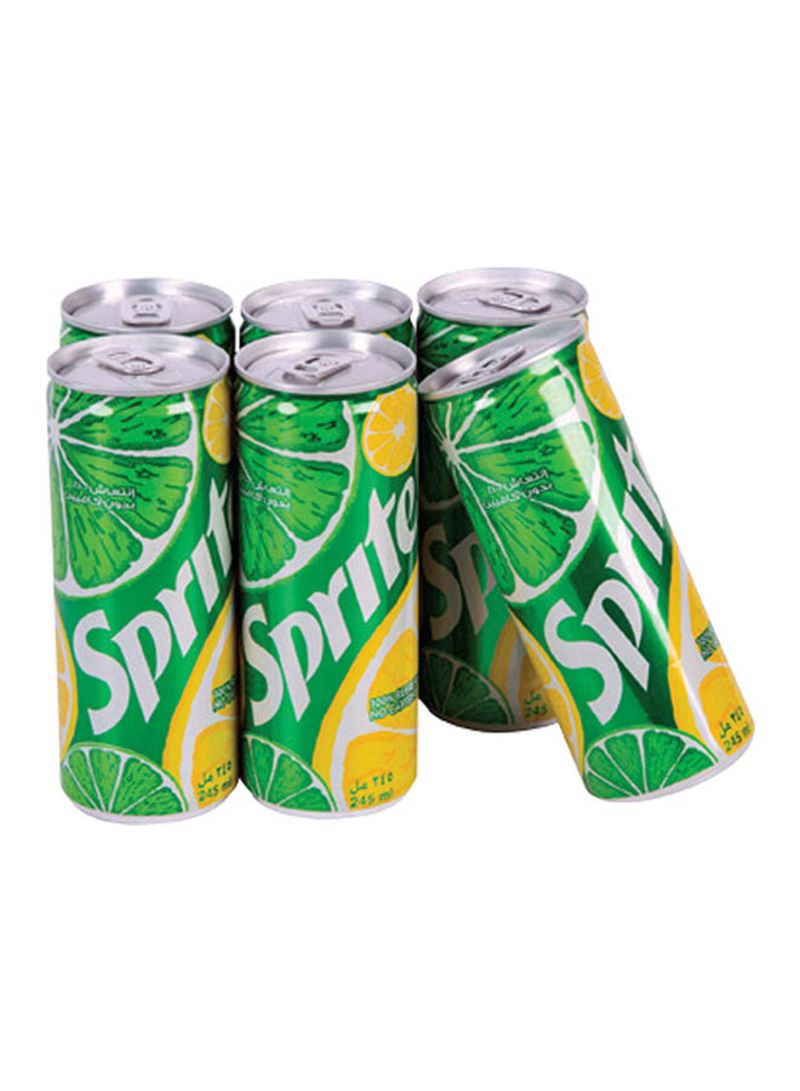Sprite: (27, 359, 249, 829), (510, 333, 675, 806), (250, 338, 414, 811)
